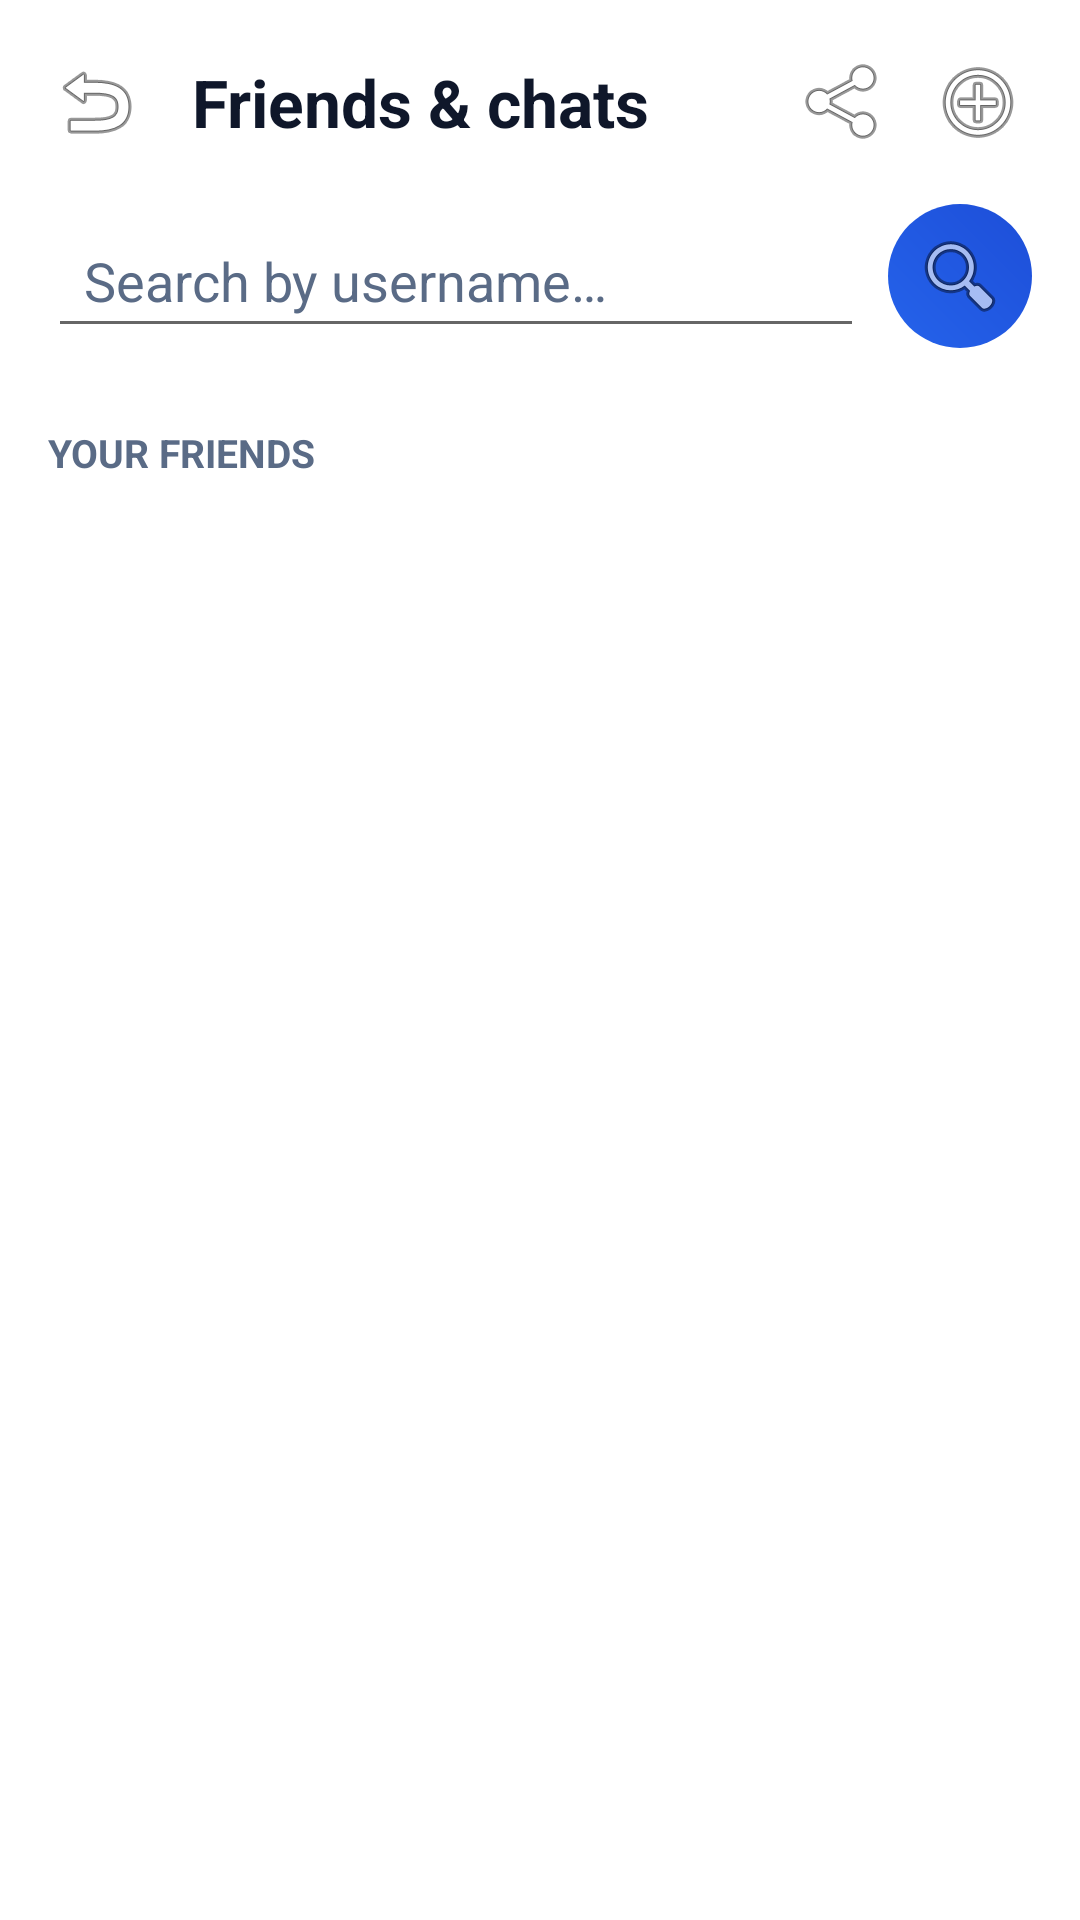

Point at icon controls on the screen. Image size 1080*1920, points as (x,y).
Back: (97,102)
Invite a friend: (841,101)
New group: (978,102)
